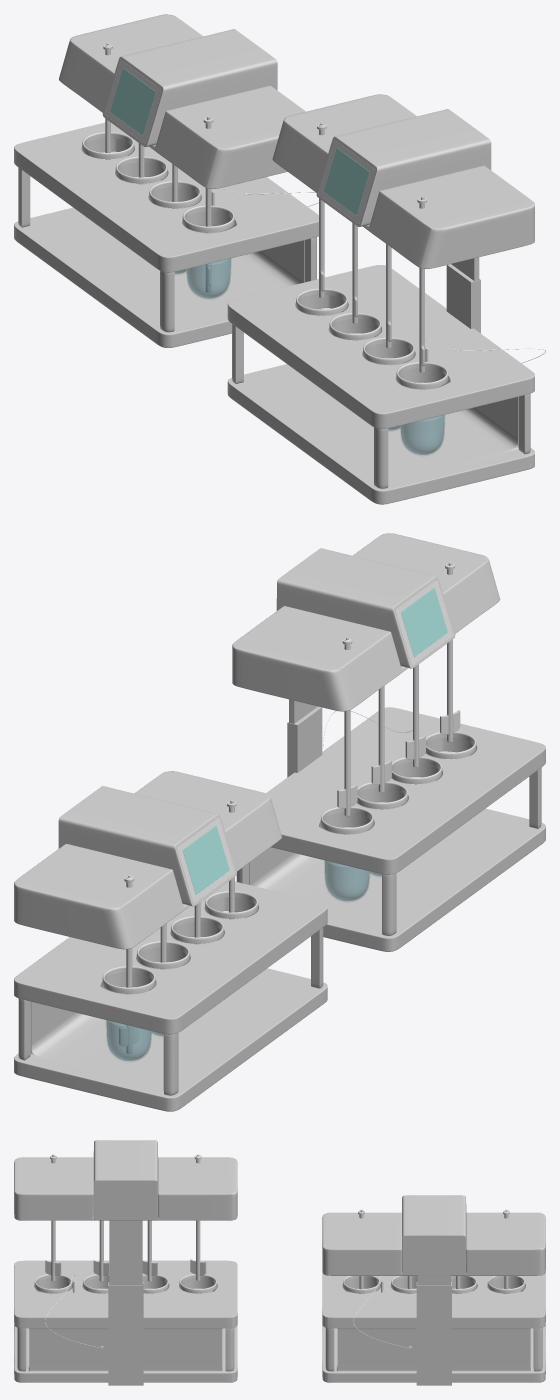
The model's file is 实验台(1).fbx.
The picture shows the model from 3 angles, top to bottom: view 1: azimuth 30°, elevation 25°; view 2: azimuth 150°, elevation 25°; view 3: azimuth 270°, elevation 25°; orthographic projection. The views are drawn at different scales.
Visible parts, largest first — view 1: Box010, Box006, Box013, Box007, Box011, Box008, 对象007, 对象002, Tube022, Tube014, 对象005, 对象009 (+18 smaller); view 2: Box006, Box010, Box013, Box007, Box008, Box011, 对象002, Tube016, Tube005, 对象005, 对象009, Box012 (+15 smaller); view 3: Box010, Box006, Box007, Box013, Box008, Box011, Box012, Box009, 对象010, 对象002, 对象007, Cylinder021 (+8 smaller).
Part boxes in pixels (<box>): Box010: <box>227,265,534,504</box>; Box006: <box>14,122,320,347</box>; Box013: <box>272,94,534,268</box>; Box007: <box>59,14,305,188</box>; Box011: <box>316,109,491,226</box>; Box008: <box>102,29,277,147</box>; 对象007: <box>232,324,530,488</box>; 对象002: <box>18,167,316,332</box>; Tube022: <box>396,368,447,456</box>; Tube014: <box>183,212,234,299</box>; 对象005: <box>110,68,155,135</box>; 对象009: <box>324,148,369,215</box>; Box006: <box>14,881,327,1111</box>; Box010: <box>235,707,545,951</box>; Box013: <box>232,533,500,711</box>; Box007: <box>14,771,281,949</box>; Box008: <box>58,786,236,906</box>; Box011: <box>276,548,455,668</box>; 对象002: <box>18,927,323,1095</box>; Tube016: <box>321,813,373,902</box>; Tube005: <box>103,973,155,1062</box>; 对象005: <box>182,826,229,894</box>; 对象009: <box>401,588,447,657</box>; Box012: <box>287,706,322,777</box>; Box010: <box>14,1260,237,1382</box>; Box006: <box>322,1270,545,1382</box>; Box007: <box>322,1212,545,1275</box>; Box013: <box>14,1157,237,1220</box>; Box008: <box>402,1195,466,1275</box>; Box011: <box>93,1140,157,1220</box>; Box012: <box>108,1282,143,1385</box>; Box009: <box>416,1282,451,1385</box>; 对象010: <box>109,1220,142,1285</box>; 对象002: <box>325,1327,542,1371</box>; 对象007: <box>17,1327,234,1371</box>; Cylinder021: <box>190,1155,206,1280</box>.
Size of what is drawn, in the model's own units: 1270 by 1804 by 4227.
